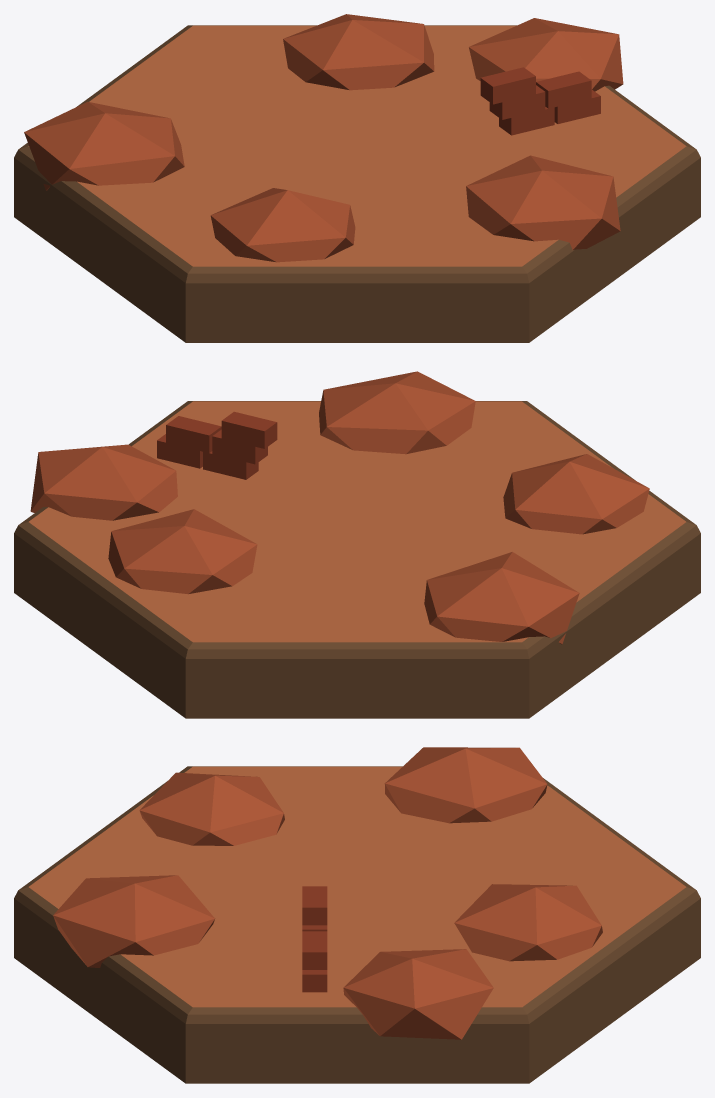
Rendered from tile_hills.glb.
The picture shows the model from 3 angles, top to bottom: view 1: azimuth 30°, elevation 25°; view 2: azimuth 150°, elevation 25°; view 3: azimuth 270°, elevation 25°; orthographic projection.
Parts seen in each view (by area): view 1: tile_hills; view 2: tile_hills; view 3: tile_hills.
Part boxes in pixels (x1,y1,x2,y2): tile_hills: (14, 14, 700, 342); tile_hills: (14, 371, 700, 718); tile_hills: (14, 747, 700, 1083).
Bounding box in the file's own units: 1.78 × 0.385 × 1.93.
